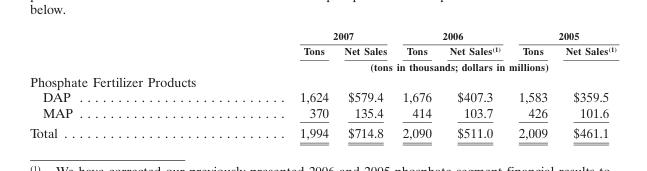table: (29, 29, 616, 140)
table column: (29, 29, 185, 140), (185, 29, 335, 140), (439, 29, 508, 140), (555, 29, 616, 140), (335, 29, 394, 140), (508, 29, 555, 140), (394, 29, 439, 140)
table column header: (29, 29, 616, 72)
table projected row header: (29, 72, 616, 88)
table row: (29, 104, 616, 122), (29, 122, 616, 140), (29, 42, 616, 58), (29, 72, 616, 88), (29, 88, 616, 104), (29, 58, 616, 72), (29, 29, 616, 42)
table spanning cell: (185, 58, 616, 72), (185, 29, 394, 42), (394, 29, 508, 42), (508, 29, 616, 42)
